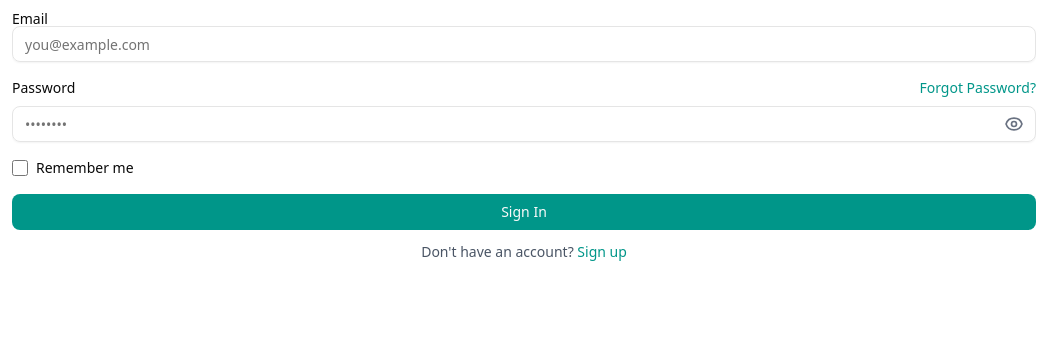
Scenario: EmailSignInForm › handles invalid credentials
Type "test@example.com" into the field labelled "Email" at (524, 44), box top-left (12, 26), bottom-right (1036, 62)
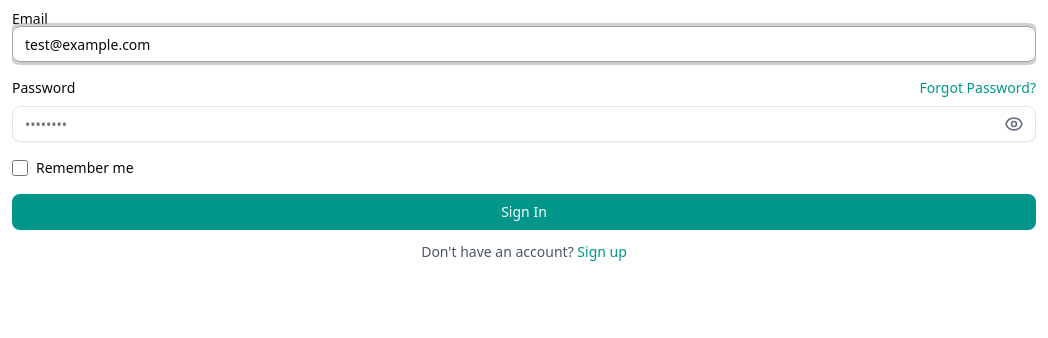
Type "wrongpassword" into the password field labelled "Password" at (524, 124), box top-left (12, 106), bottom-right (1036, 142)
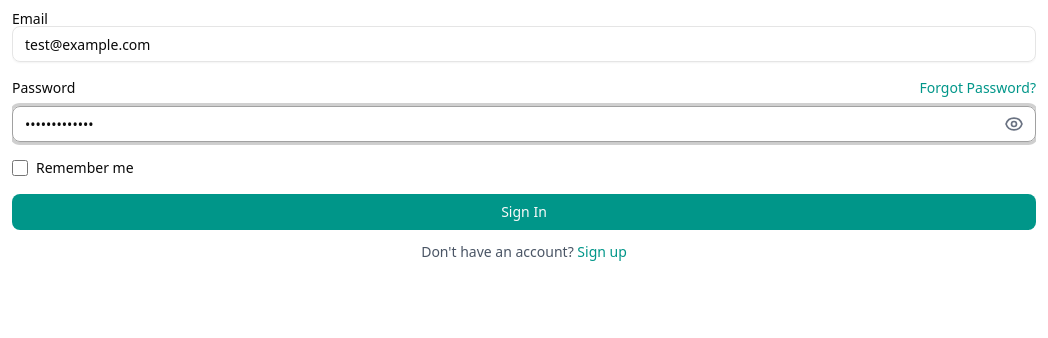
Click the button "Sign In" at (524, 212), box top-left (12, 194), bottom-right (1036, 230)
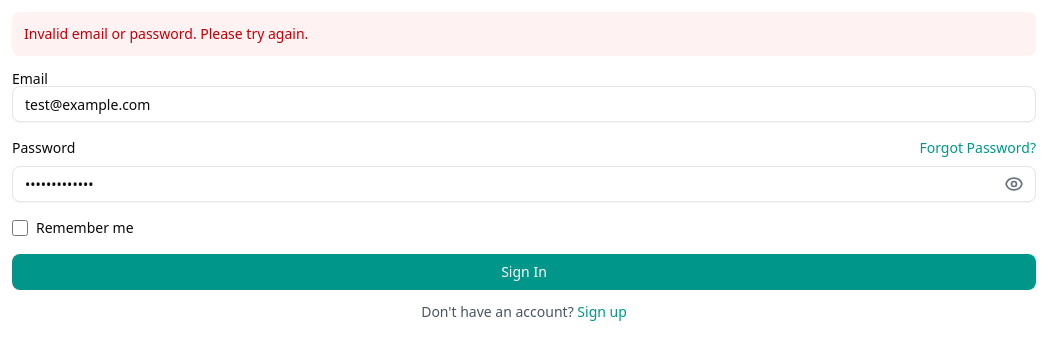
Expected: the text "Invalid email or password. Please try again." is shown, top-left (12, 12), bottom-right (1036, 56)
